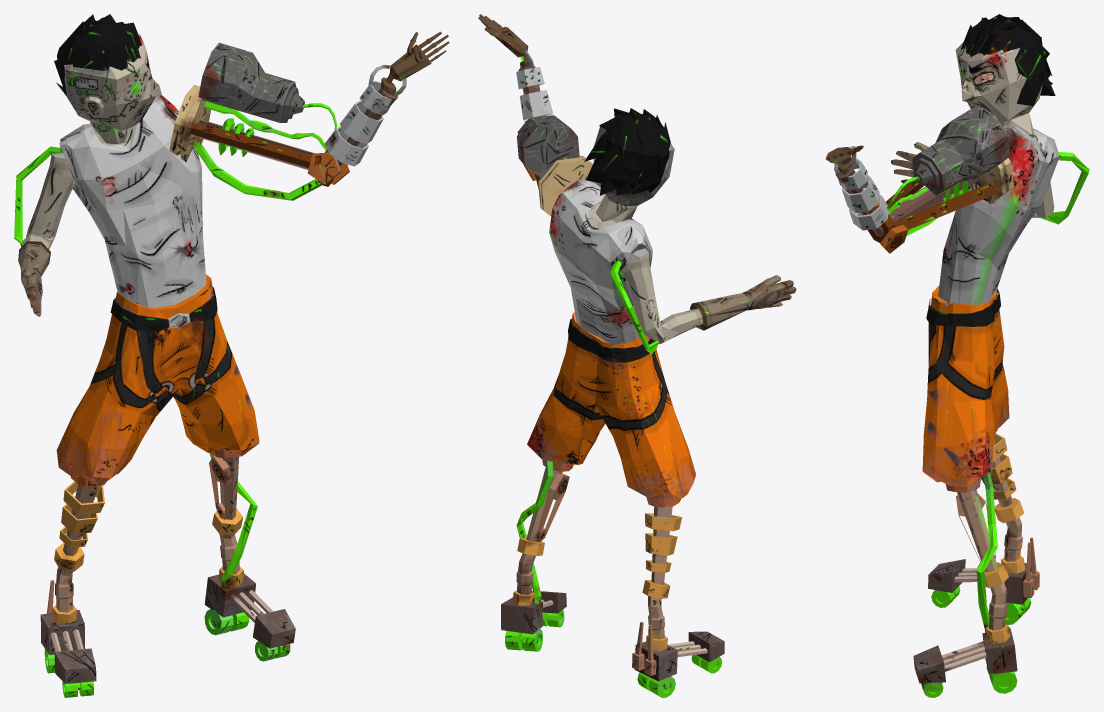
The model's file is CyborgFINALAnimation_000055.obj.
3 renders of one model, left to right at view 1: azimuth 30°, elevation 25°; view 2: azimuth 150°, elevation 25°; view 3: azimuth 270°, elevation 25°, orthographic. The views are drawn at different scales.
Visible parts, largest first — view 1: CyborgMesh_Cube.002; view 2: CyborgMesh_Cube.002; view 3: CyborgMesh_Cube.002.
Part boxes in pixels (left/top/right/bottom): CyborgMesh_Cube.002: left=14, top=14, right=449, bottom=697; CyborgMesh_Cube.002: left=478, top=14, right=796, bottom=697; CyborgMesh_Cube.002: left=825, top=14, right=1089, bottom=697.
Bounding box in the file's own units: 5.99 × 9.56 × 3.7.
